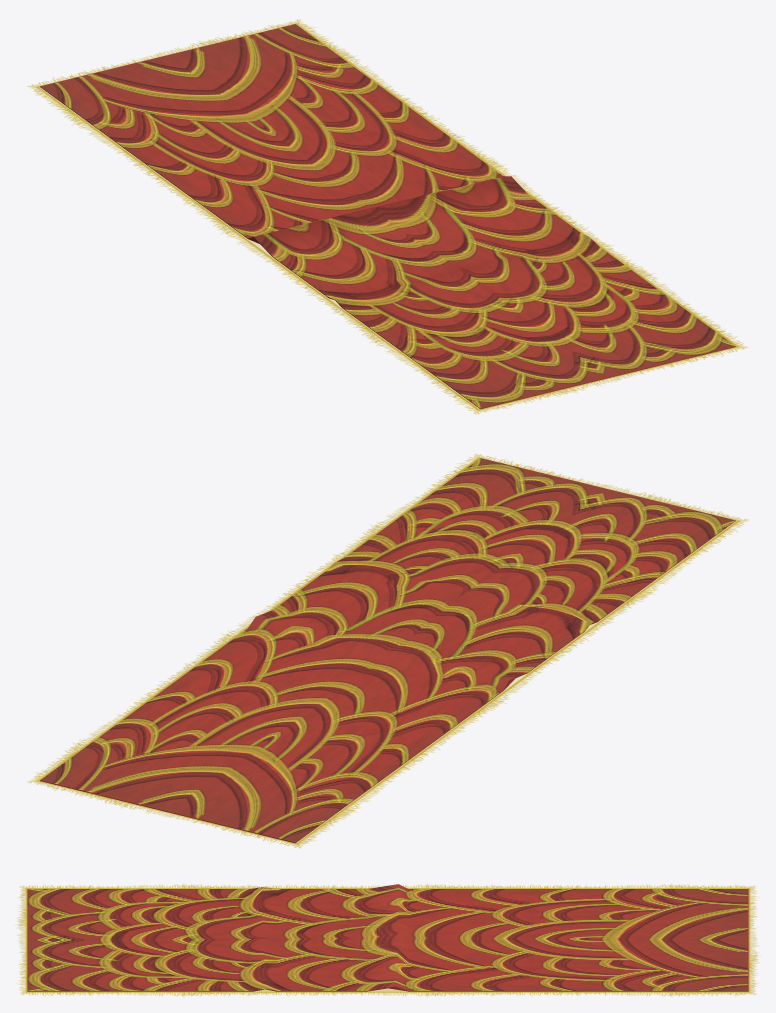
File: polygonalmind-lunar-year-006.glb
The picture shows the model from 3 angles, top to bottom: view 1: azimuth 30°, elevation 25°; view 2: azimuth 150°, elevation 25°; view 3: azimuth 270°, elevation 25°; orthographic projection. The views are drawn at different scales.
Parts seen in each view (by area): view 1: Carpet01; view 2: Carpet01; view 3: Carpet01.
Boxes of the visible parts, x1,y1,x2,y2 form: Carpet01: [27, 19, 746, 414]; Carpet01: [27, 454, 748, 848]; Carpet01: [17, 884, 758, 996].
Size of the model in its own units: 4.66 by 0.1012 by 12.66.
2 materials, 2 textured.
